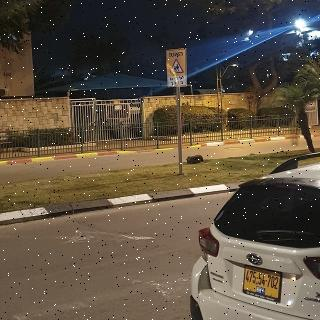LicensePlate: (242, 266, 282, 291)
